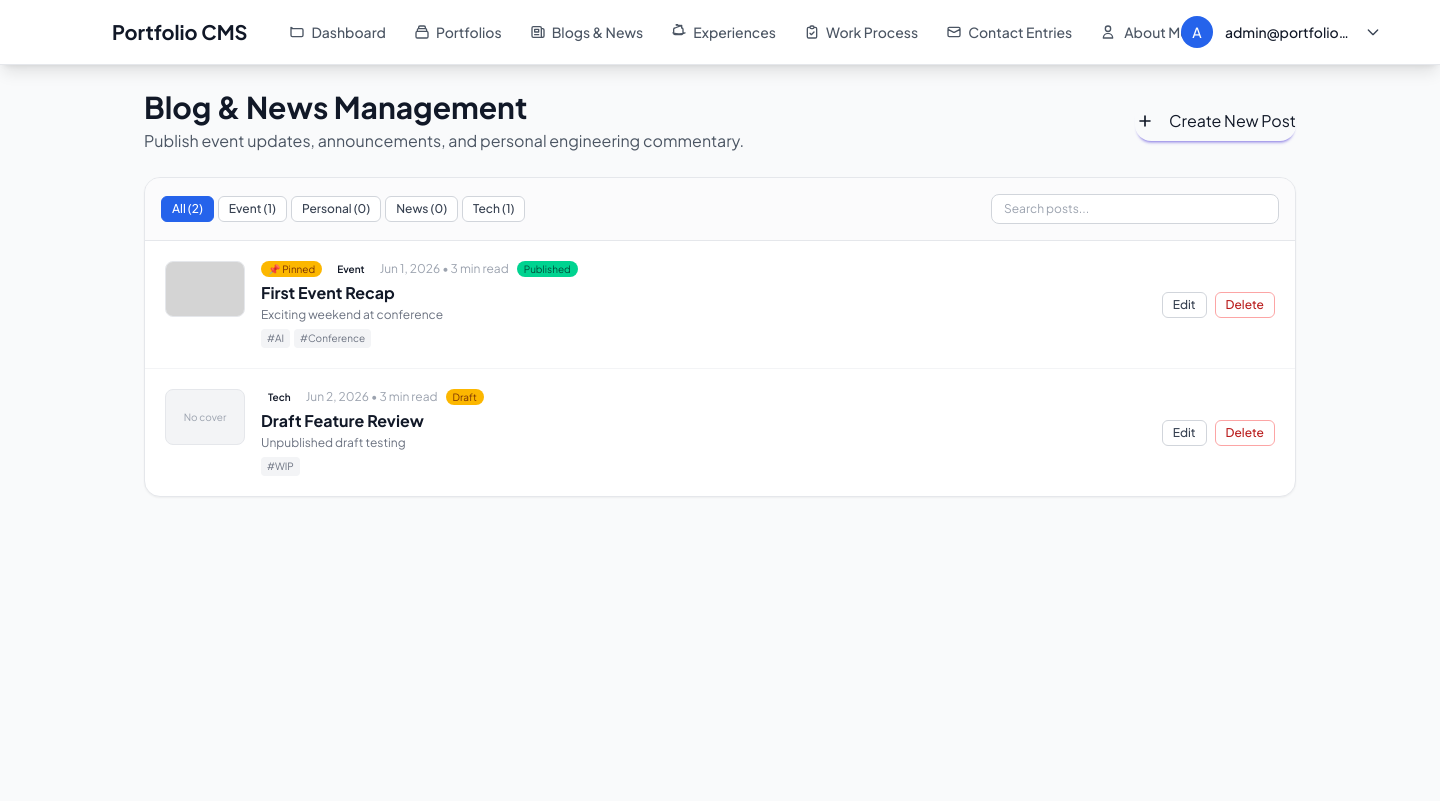
CMS Blog & News Management › edits an existing blog post and updates toggles
Click the button with test id "edit-blog-blog-1".
click(1184, 304)  # box [1162,292,1207,318]
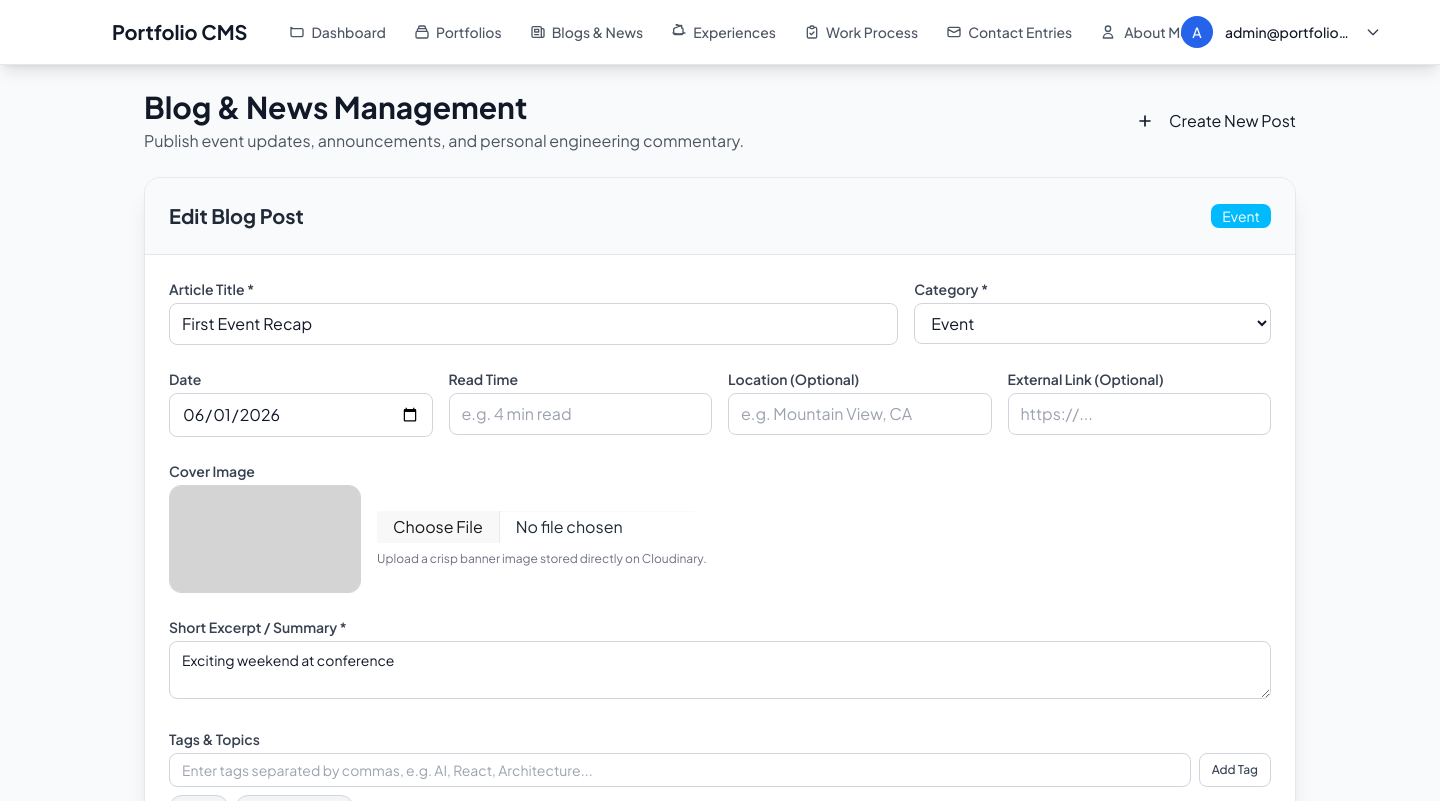
Replace the text in the field with test id "blog-title-input" with "Updated Event Recap Title" at [534, 324], box [169,303,898,345]
(page scrolled)
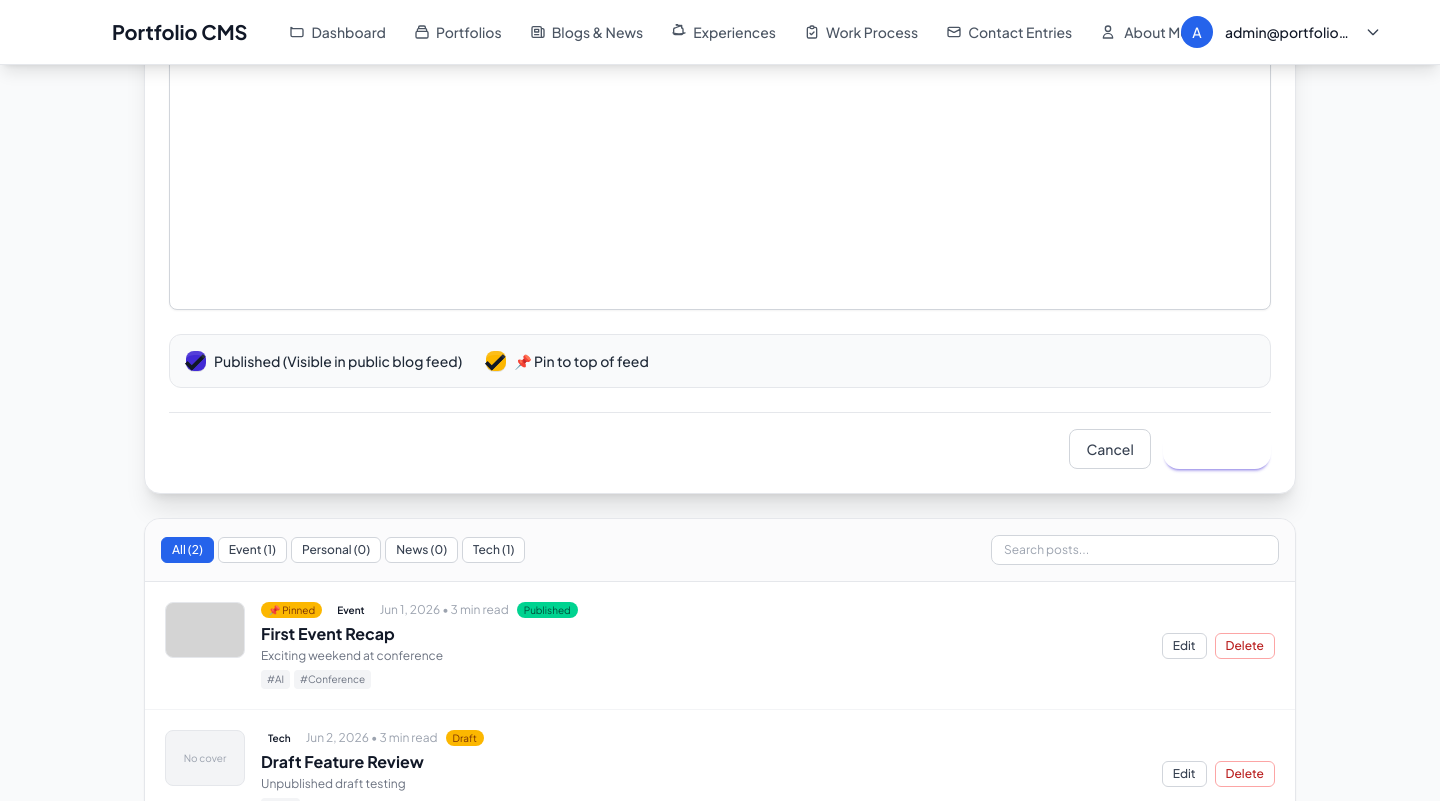
Click the checkbox with test id "blog-pinned-toggle".
click(496, 361)  # box [486,351,506,371]
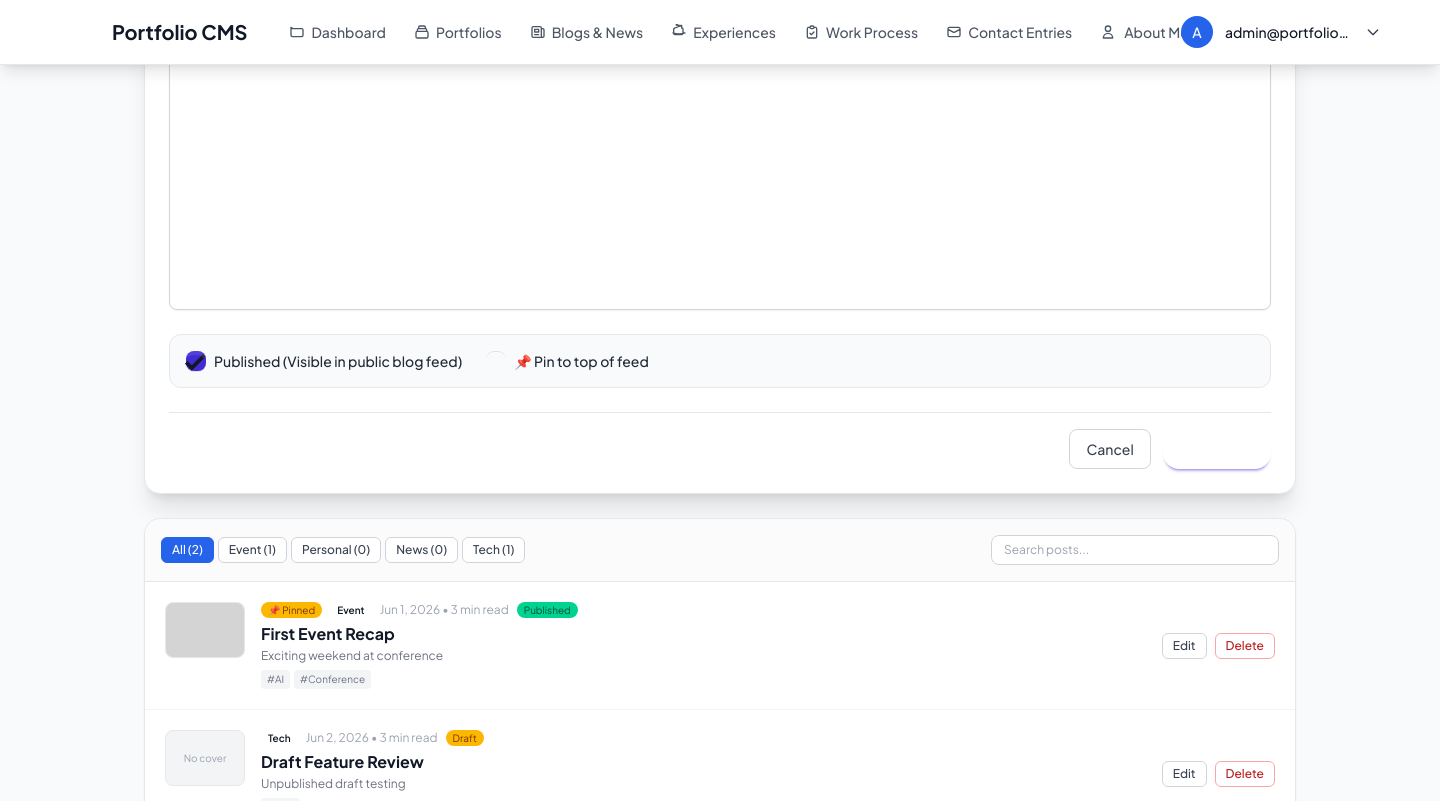
Click the button with test id "blog-save-btn".
click(1217, 449)  # box [1163,429,1271,469]
(page scrolled)
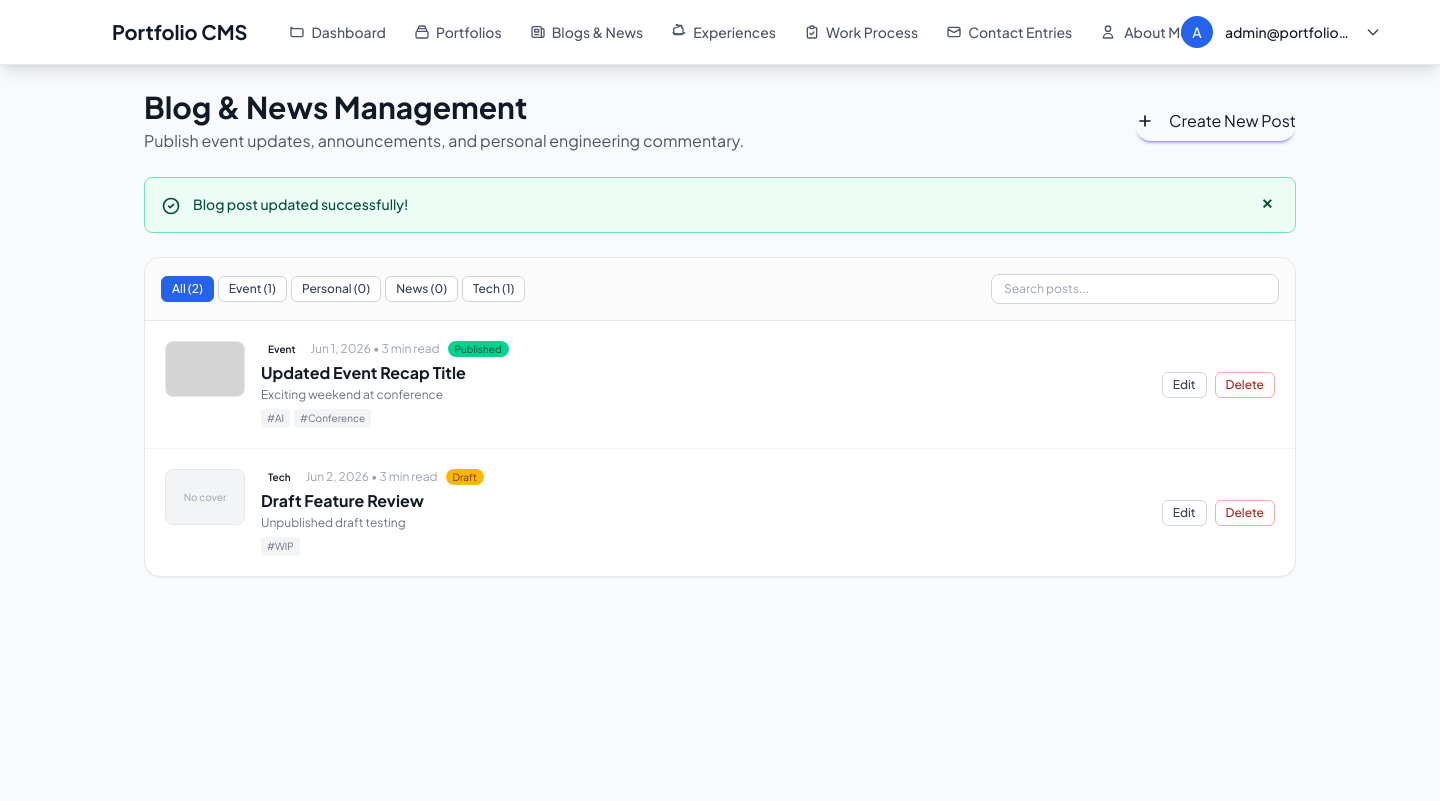
Expected: the text "Blog post updated successfully!" is shown, [193,195,408,213]
